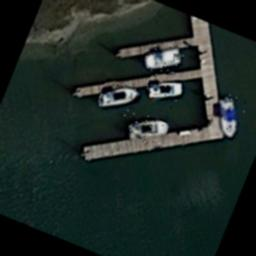boat: (204, 91, 248, 141), (140, 36, 186, 80), (142, 69, 190, 111), (122, 110, 170, 151), (96, 78, 140, 120)
